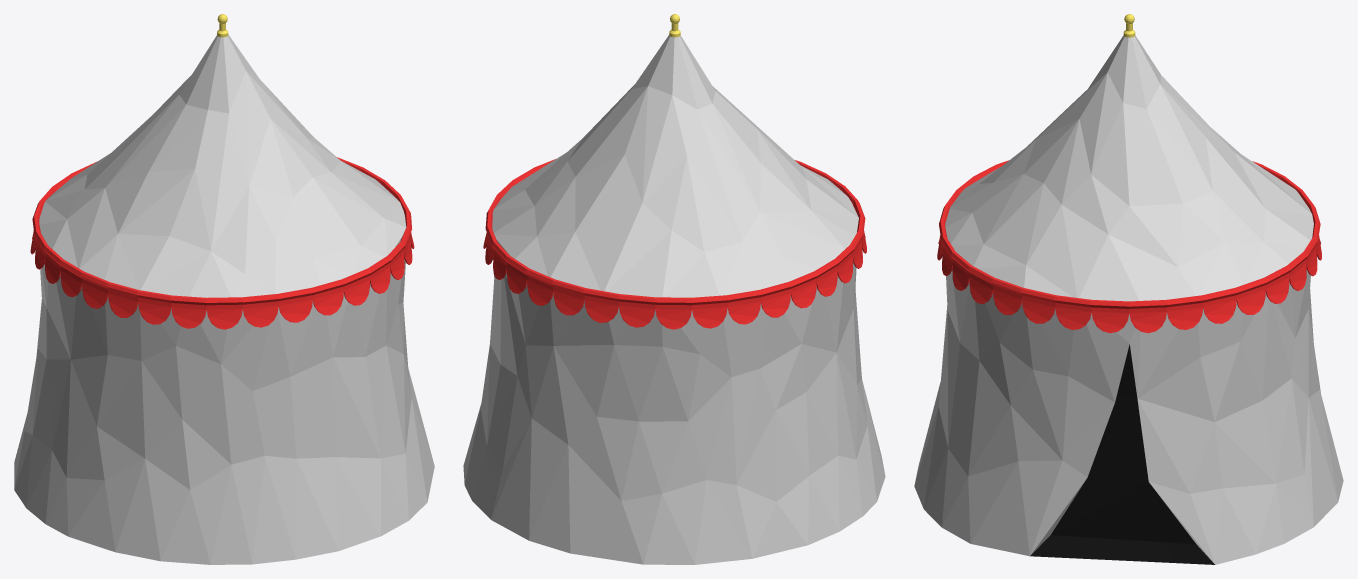
File: tent_a.FBX
3 renders of one model, left to right at view 1: azimuth 30°, elevation 25°; view 2: azimuth 150°, elevation 25°; view 3: azimuth 270°, elevation 25°, orthographic.
Parts seen in each view (by area): view 1: tent_a; view 2: tent_a; view 3: tent_a.
Boxes of the visible parts, <box> form: tent_a: <box>14,14,434,564</box>; tent_a: <box>463,14,885,564</box>; tent_a: <box>914,14,1343,564</box>.
Size of the model in its own units: 374 by 469 by 391.
